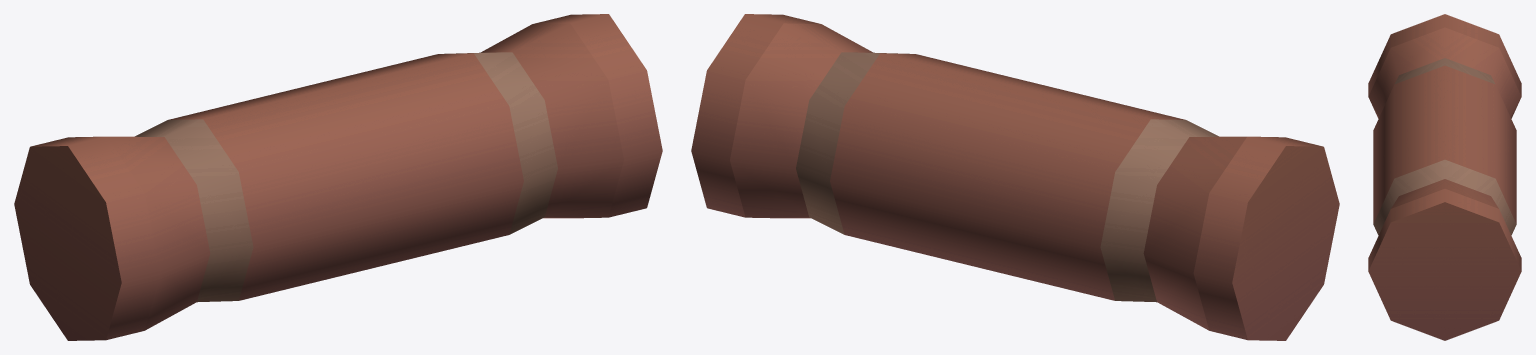
The model's file is bedroll_packed.glb.
3 views of the same model, side by side, from view 1: azimuth 30°, elevation 25°; view 2: azimuth 150°, elevation 25°; view 3: azimuth 270°, elevation 25° (orthographic). The views are drawn at different scales.
Parts seen in each view (by area): view 1: bedroll-packed; view 2: bedroll-packed; view 3: bedroll-packed.
Boxes of the visible parts, left/top/right/bottom form: bedroll-packed: left=14, top=14, right=662, bottom=340; bedroll-packed: left=691, top=14, right=1339, bottom=340; bedroll-packed: left=1368, top=14, right=1521, bottom=340.
Bounding box in the file's own units: 0.6901 × 0.2377 × 0.2377.
1 material, 1 textured.
